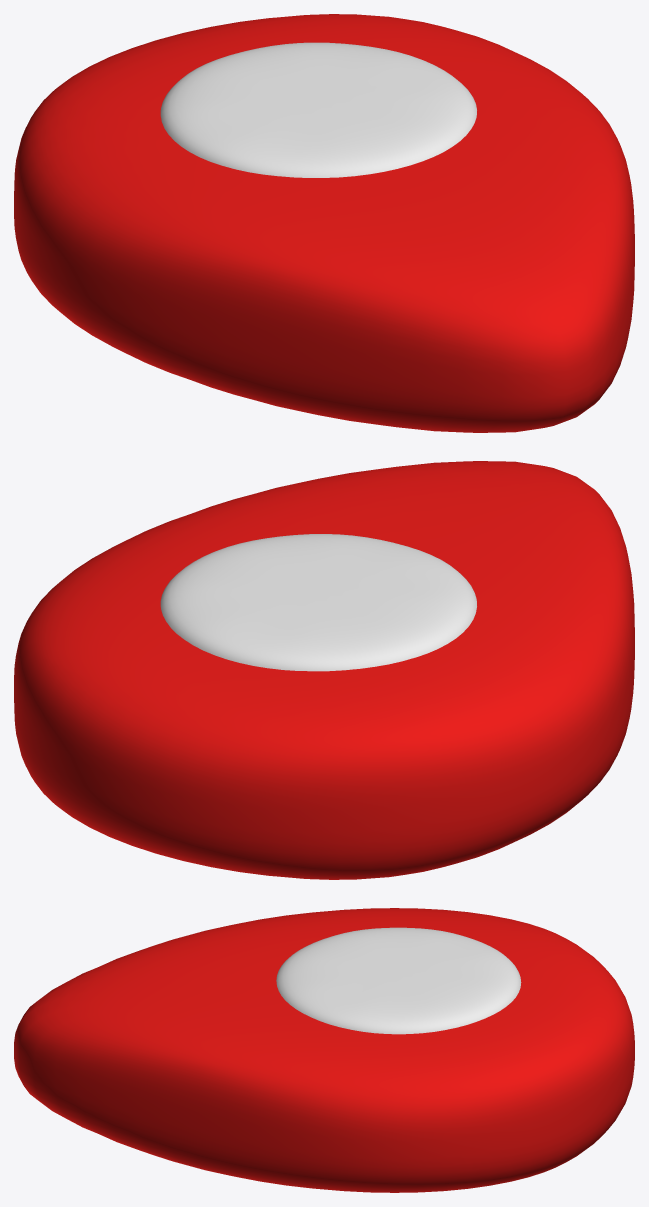
File: Pin 04.fbx
3 renders of one model, top to bottom at view 1: azimuth 30°, elevation 25°; view 2: azimuth 150°, elevation 25°; view 3: azimuth 270°, elevation 25°, orthographic. The views are drawn at different scales.
Parts seen in each view (by area): view 1: Pin; view 2: Pin; view 3: Pin.
Part boxes in pixels (x1,y1,x2,y2): Pin: (14, 14, 634, 432); Pin: (14, 461, 634, 879); Pin: (14, 908, 634, 1192).
Bounding box in the file's own units: 218 × 79.83 × 286.
